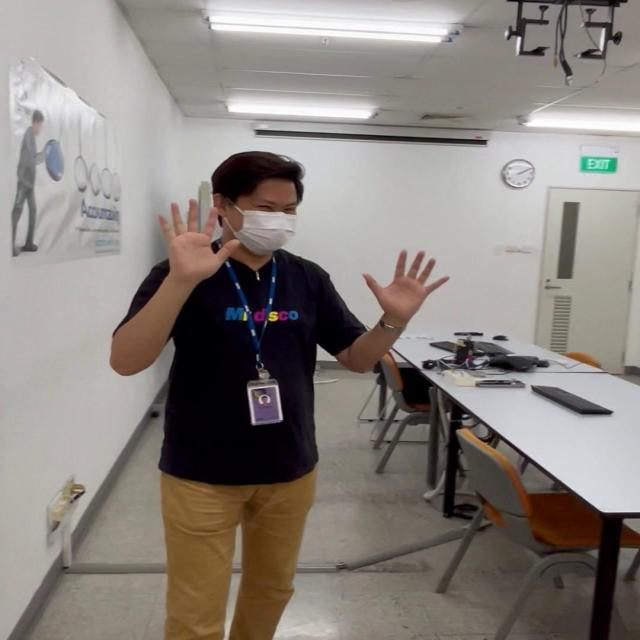bare_hand: (152, 193, 236, 276), (360, 246, 451, 316)
